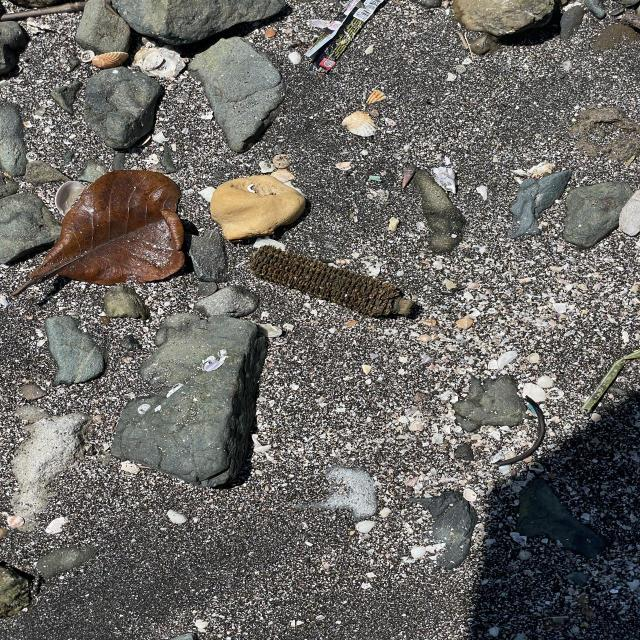plastic_waste: (301, 1, 391, 71), (579, 347, 640, 413)
